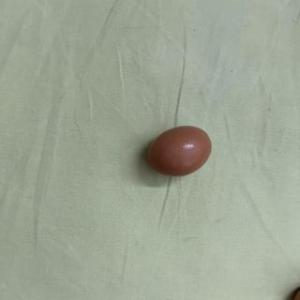egg: (144, 124, 214, 178)
